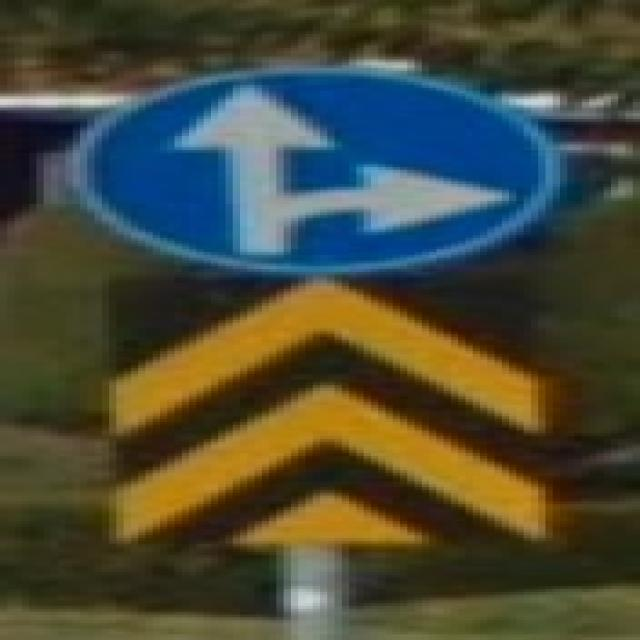Straight or Right: (77, 73, 550, 277)
